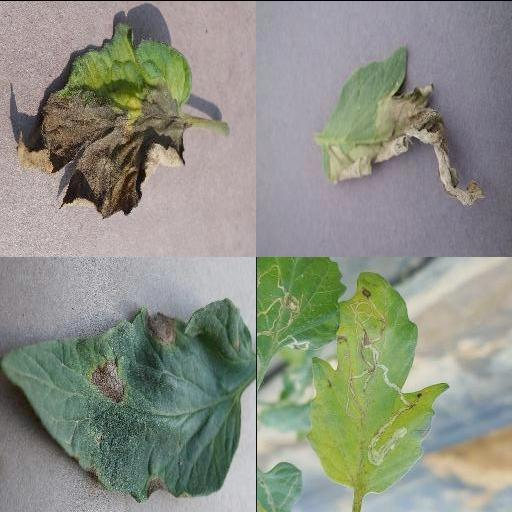Early Blight: (2, 298, 256, 502)
Late Blight: (14, 19, 196, 219), (321, 46, 485, 206)
Leaf Miner: (304, 271, 450, 493)
